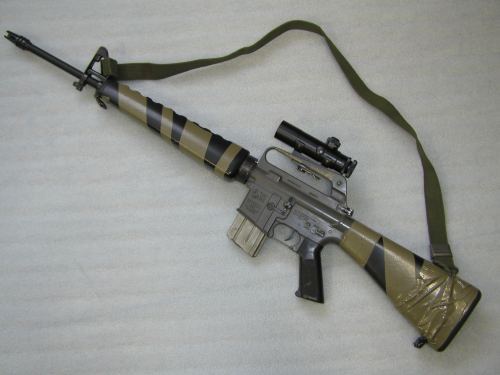rifle: (2, 17, 481, 361)
